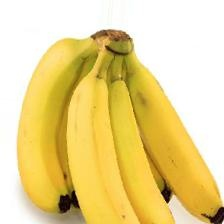banana: (23, 22, 160, 184)
